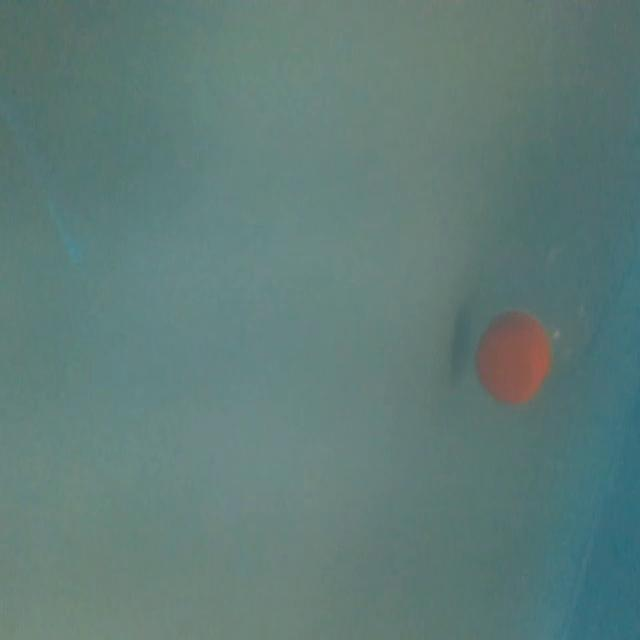plastic bottle: (460, 182, 637, 409)
